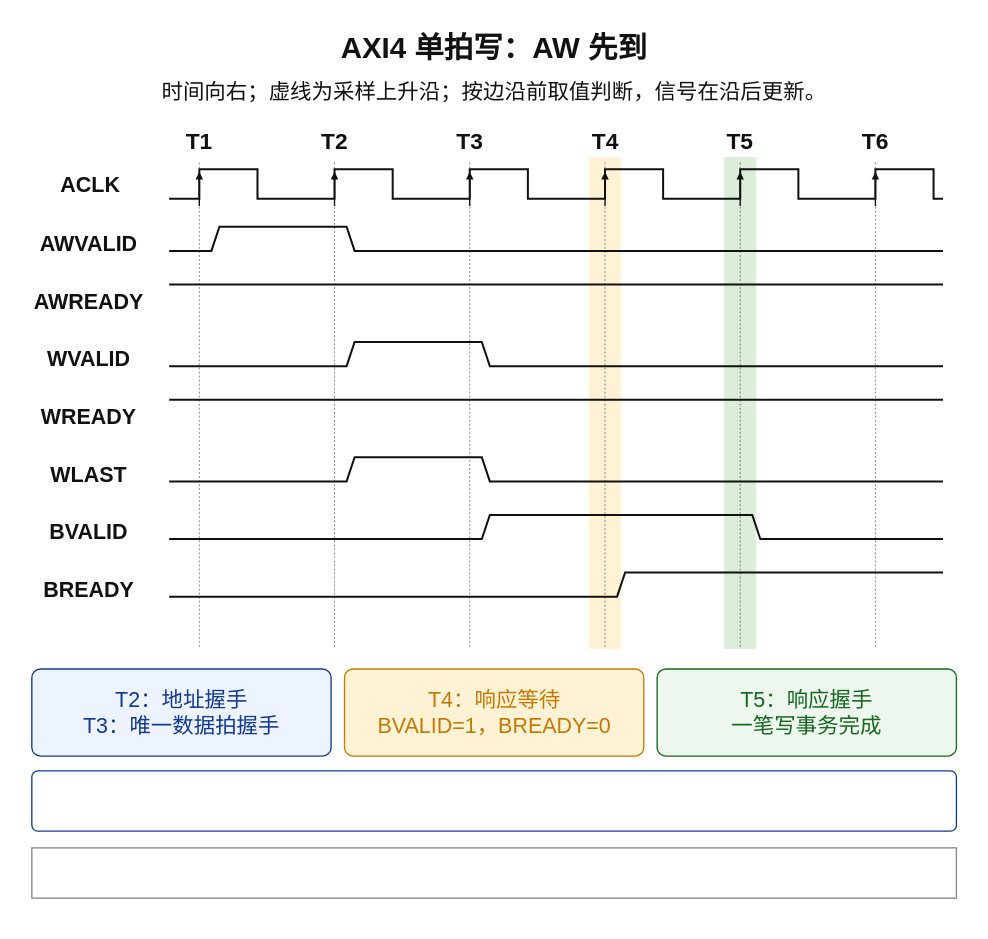
Image size: 988x939. Some labels were removed from this diagram. The centre of each missing label's shape, as x and y in pixels:
BVALID 必须在地址握手及末拍数据握手均完成之后产生。: the point at 494,800
主：AWVALID/WVALID/WLAST/BREADY；从：其余；AWLEN=0，BRESP=OKAY。: the point at 494,872
